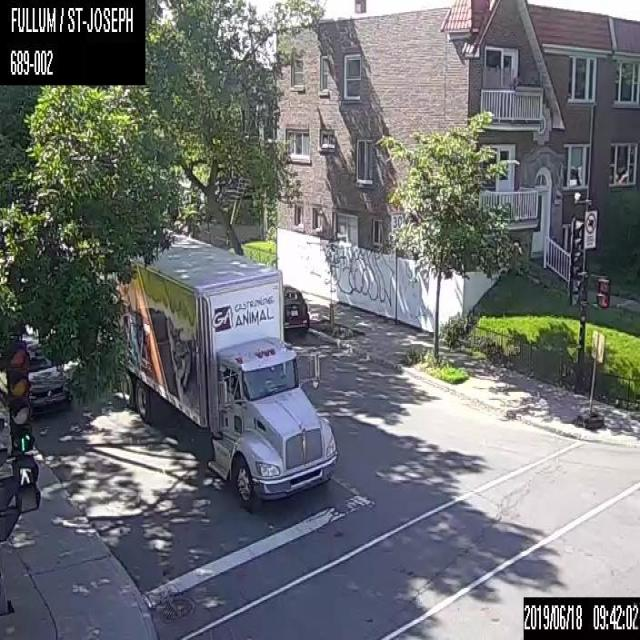construction: (575, 326, 608, 426)
vehicle: (114, 228, 338, 512), (0, 335, 74, 417), (282, 284, 308, 332)
